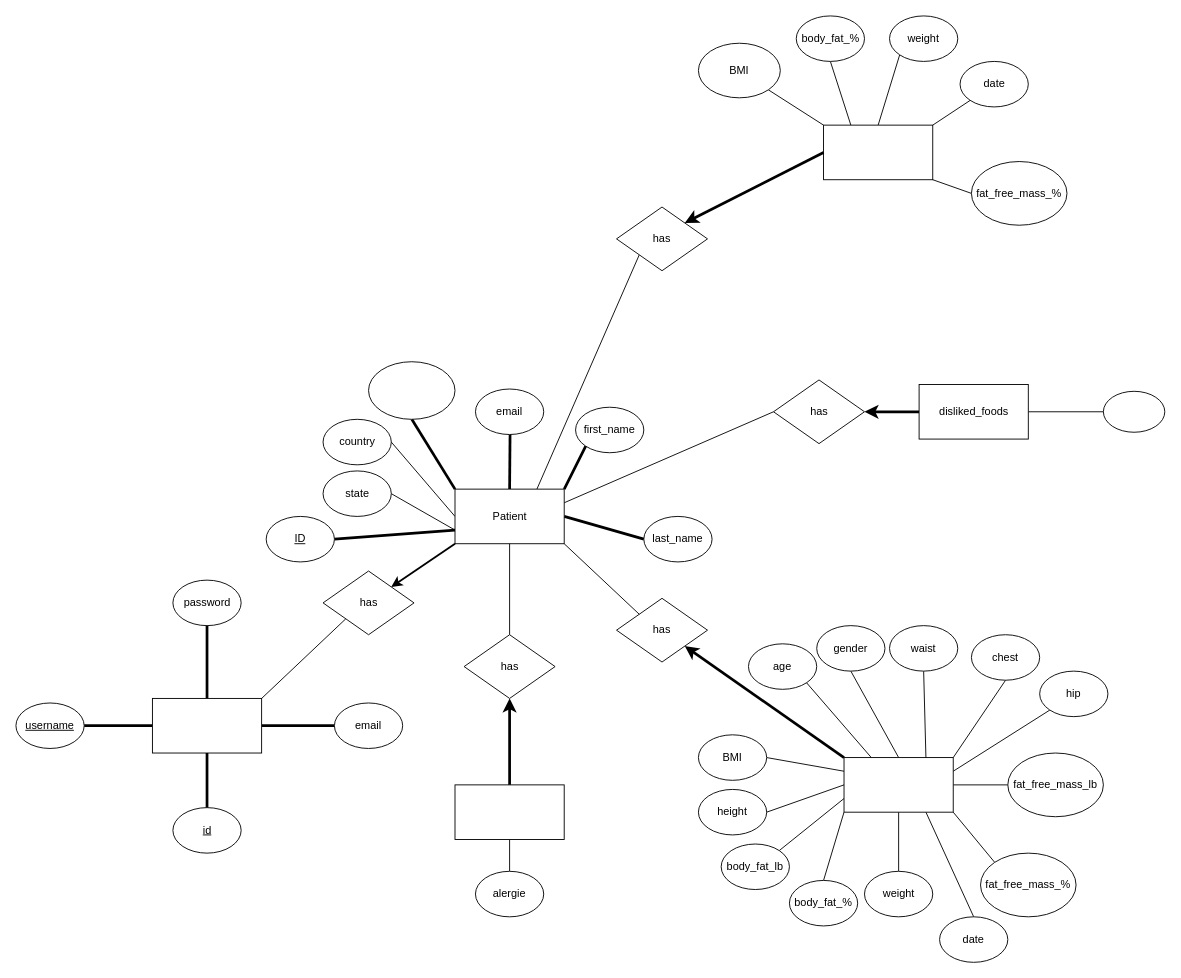
The diagram is 1181 pixels wide and 978 high, and some of its shapes have lost their labels. Each missing label, with the centre of its shape:
Alergies: [509,811]
Biometrics: [898,784]
food: [1133,411]
goals: [878,152]
phone_number: [411,390]
User: [207,725]
